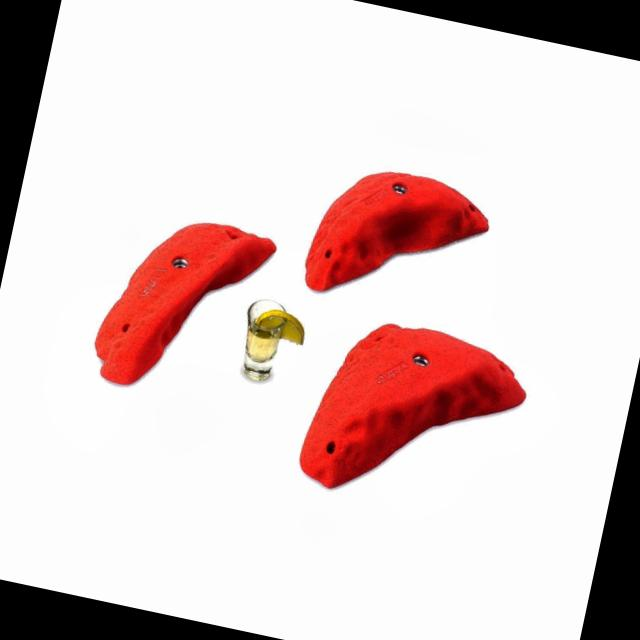Hold: (288, 310, 536, 530), (82, 202, 276, 410), (290, 152, 499, 329)
